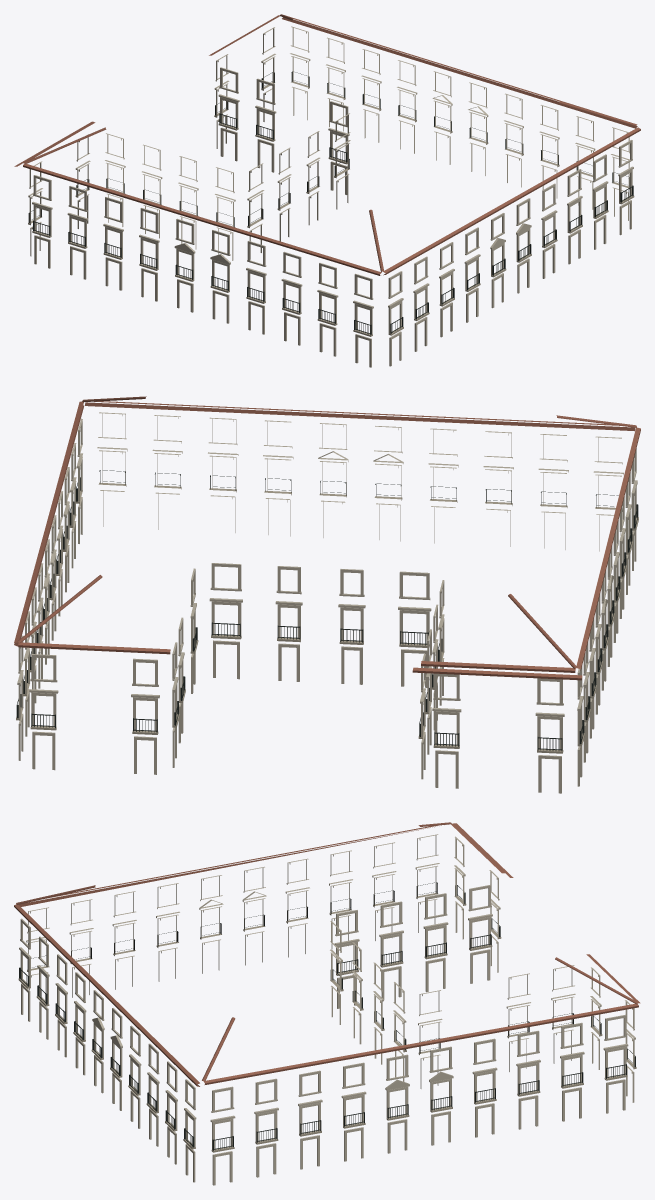
3 renders of one model, top to bottom at view 1: azimuth 30°, elevation 25°; view 2: azimuth 150°, elevation 25°; view 3: azimuth 270°, elevation 25°, orthographic. The views are drawn at different scales.
Parts seen in each view (by area): view 1: detail; view 2: detail; view 3: detail.
Part boxes in pixels (<box>): detail: <box>14,14,640,367</box>; detail: <box>14,396,640,793</box>; detail: <box>14,822,640,1185</box>.
Bounding box in the file's own units: 50.35 × 12.13 × 50.38.
